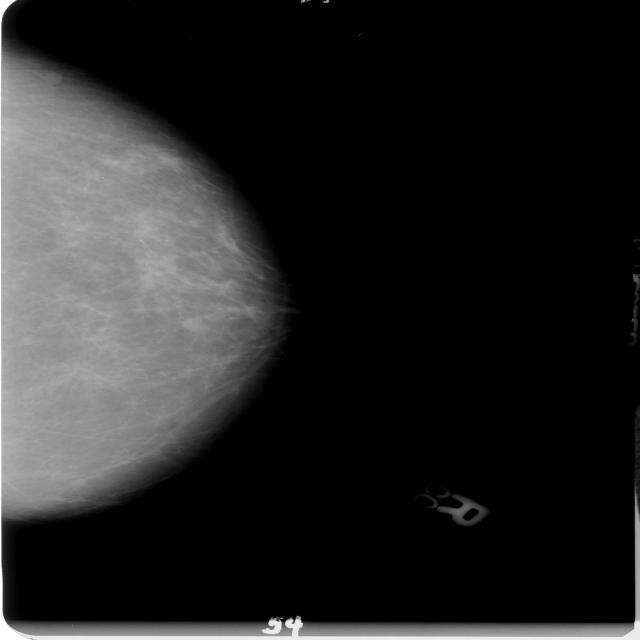normal: (0, 39, 279, 526)
